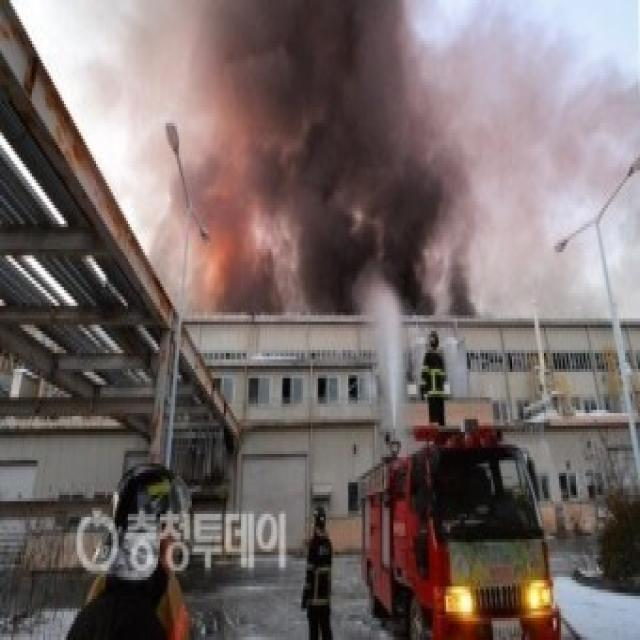Smoke: (152, 0, 521, 340), (359, 0, 640, 337), (8, 2, 337, 220), (198, 198, 322, 333)
